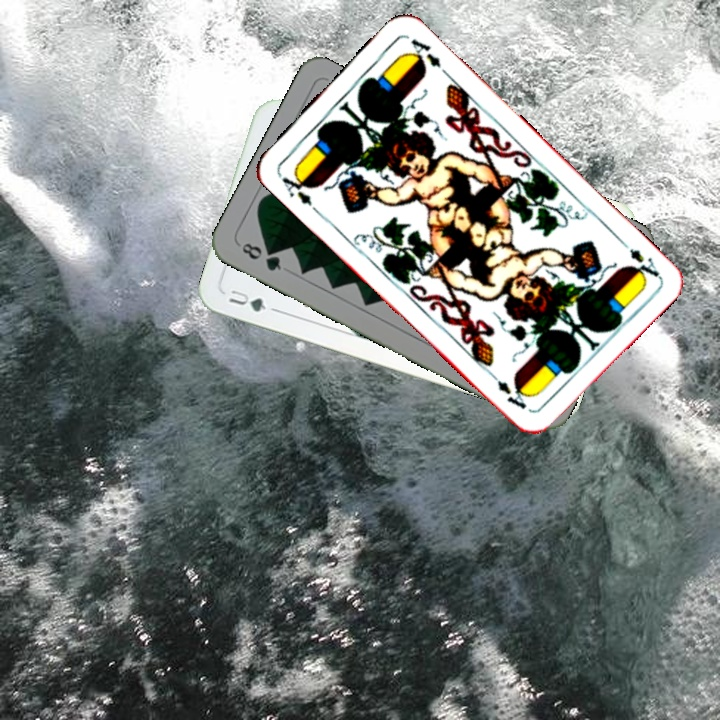EA: (614, 235, 663, 283), (277, 167, 321, 216)
G8: (236, 238, 284, 274)
GU: (225, 285, 279, 315)
